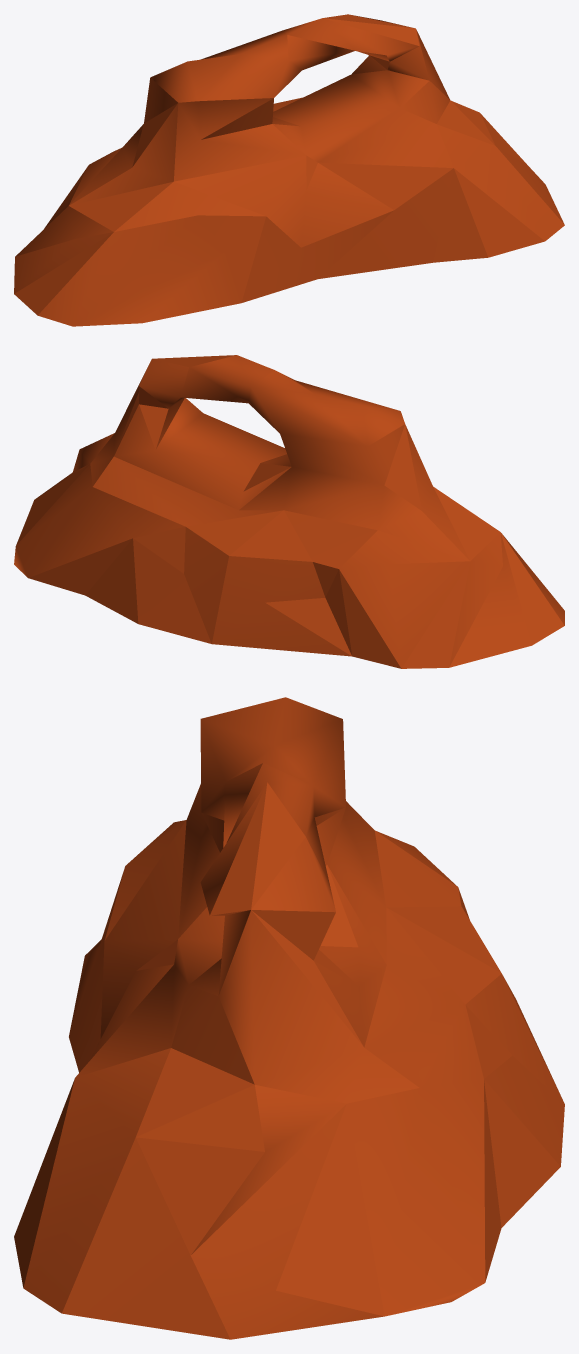
File: Plateau_desert_004.glb
3 renders of one model, top to bottom at view 1: azimuth 30°, elevation 25°; view 2: azimuth 150°, elevation 25°; view 3: azimuth 270°, elevation 25°, orthographic. The views are drawn at different scales.
Parts seen in each view (by area): view 1: Plateau_desert_004; view 2: Plateau_desert_004; view 3: Plateau_desert_004.
Part boxes in pixels (<box>): Plateau_desert_004: <box>14,14,564,326</box>; Plateau_desert_004: <box>14,355,564,668</box>; Plateau_desert_004: <box>14,697,564,1339</box>.
Bounding box in the file's own units: 54.28 × 21.2 × 28.23.
1 material, 1 textured.
